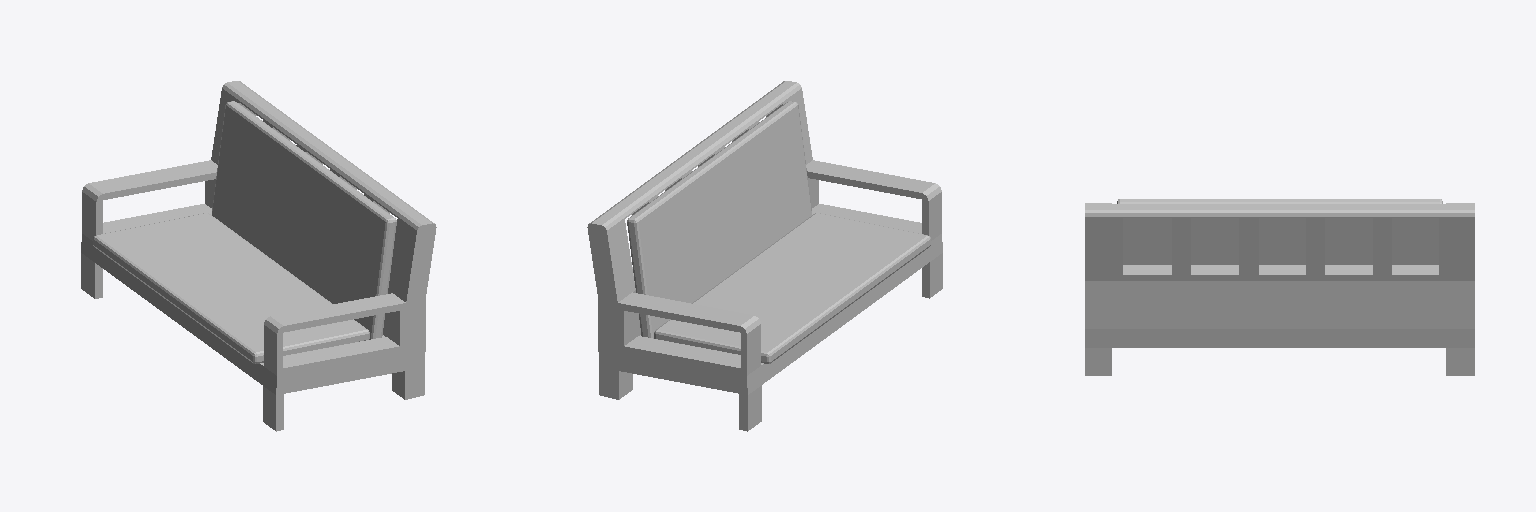
The model's file is sofa.obj.
3 renders of one model, left to right at view 1: azimuth 30°, elevation 25°; view 2: azimuth 150°, elevation 25°; view 3: azimuth 270°, elevation 25°, orthographic.
Visible parts, largest first — view 1: polySurface21; view 2: polySurface21; view 3: polySurface21.
Boxes of the visible parts, x1,y1,x2,y2 form: polySurface21: [81, 81, 436, 431]; polySurface21: [587, 81, 942, 431]; polySurface21: [1085, 199, 1474, 375].
Bounding box in the file's own units: 517 × 508 × 1053.